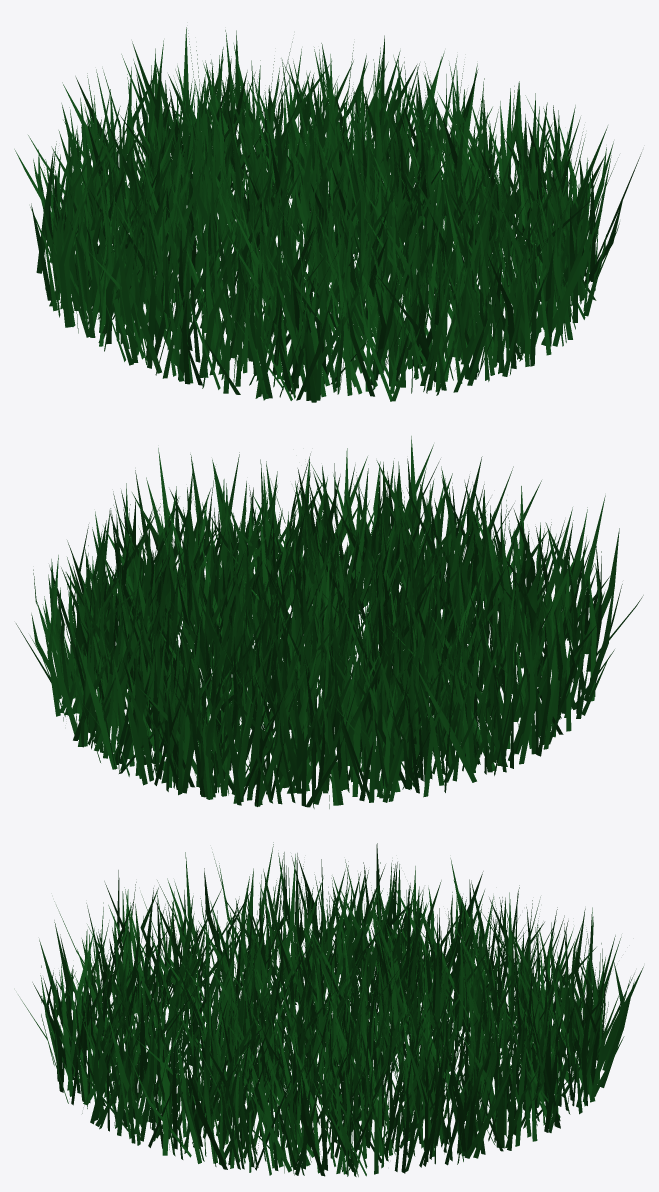
The model's file is trawa.FBX.
3 renders of one model, top to bottom at view 1: azimuth 30°, elevation 25°; view 2: azimuth 150°, elevation 25°; view 3: azimuth 270°, elevation 25°, orthographic. The views are drawn at different scales.
Visible parts, largest first — view 1: default; view 2: default; view 3: default.
Part boxes in pixels (x1,y1,x2,y2): default: (14, 27, 641, 402); default: (16, 436, 643, 808); default: (18, 842, 643, 1176).
Bounding box in the file's own units: 7 × 1.81 × 8.06.
